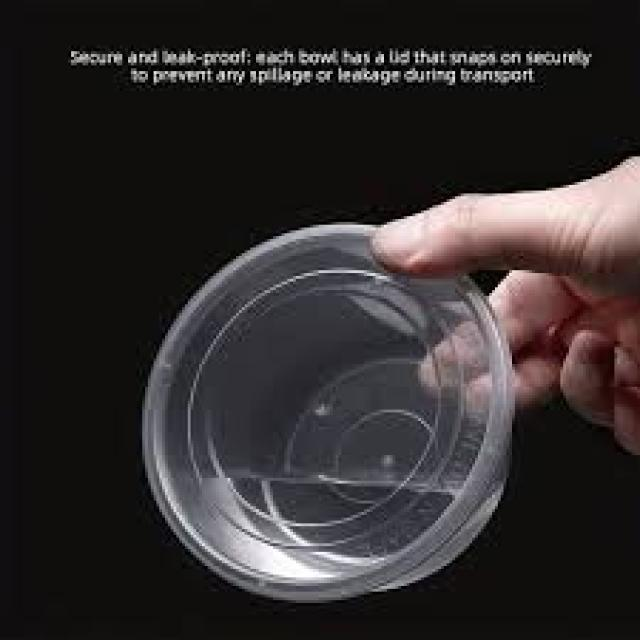disposable: (134, 211, 540, 612)
